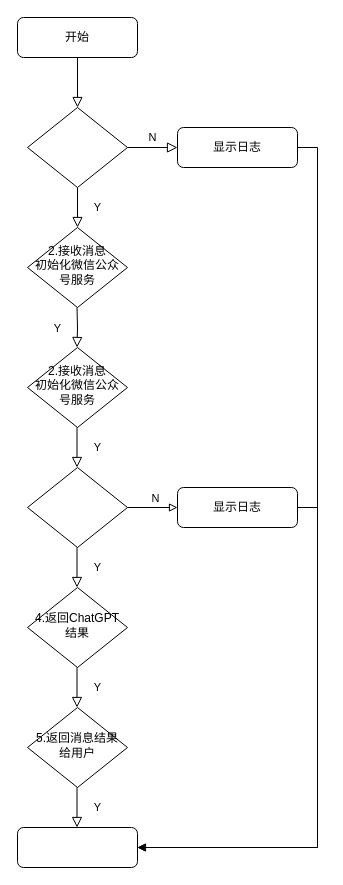
Image size: 343x885. Some labels were removed from this diagram. Each missing label, with the centre of its shape:
"1.加载配置" belongs at pixel 77 147.
"3.异步处理 API转发消息" belongs at pixel 77 507.
"结束" belongs at pixel 77 847.
